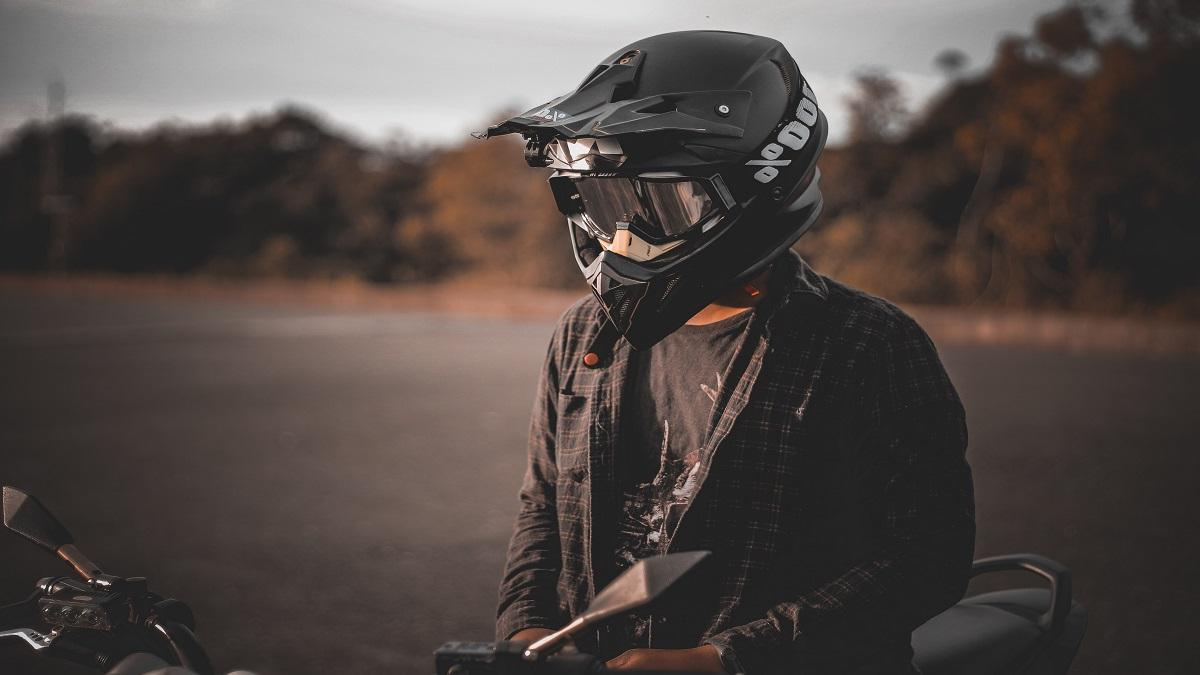Helmet: (487, 18, 839, 352)
